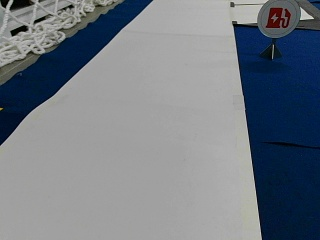battery: (256, 0, 300, 38)
